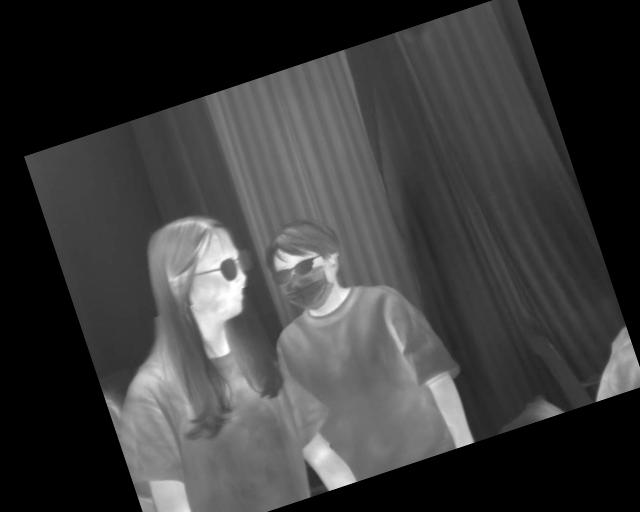face: (256, 209, 356, 321)
